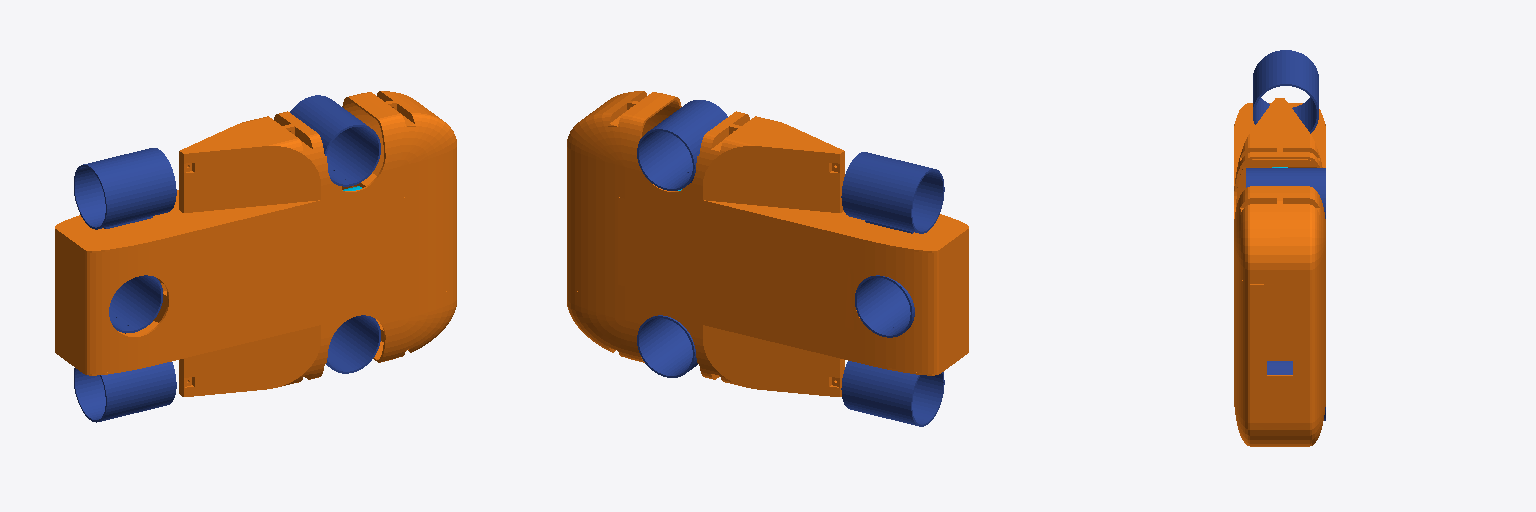
The model's file is tinker.obj.
3 views of the same model, side by side, from view 1: azimuth 30°, elevation 25°; view 2: azimuth 150°, elevation 25°; view 3: azimuth 270°, elevation 25° (orthographic).
Parts seen in each view (by area): view 1: obj_0; view 2: obj_0; view 3: obj_0.
Boxes of the visible parts, <box> form: obj_0: <box>55,91,456,422</box>; obj_0: <box>567,91,968,426</box>; obj_0: <box>1234,50,1325,446</box>.
Bounding box in the file's own units: 400 × 260 × 86.